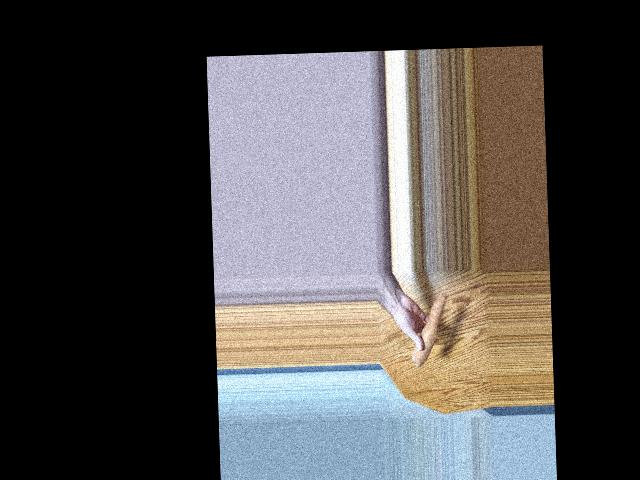sweet_potato: (417, 292, 444, 369)
